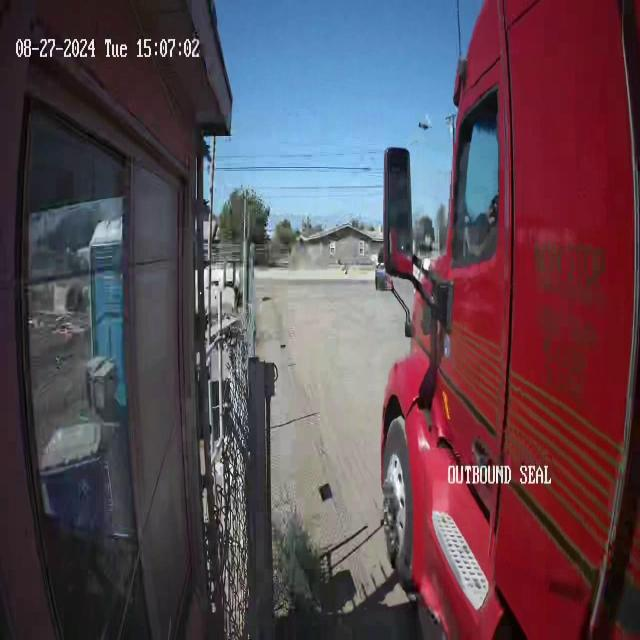TRUCK_OUT: (376, 1, 639, 638)
